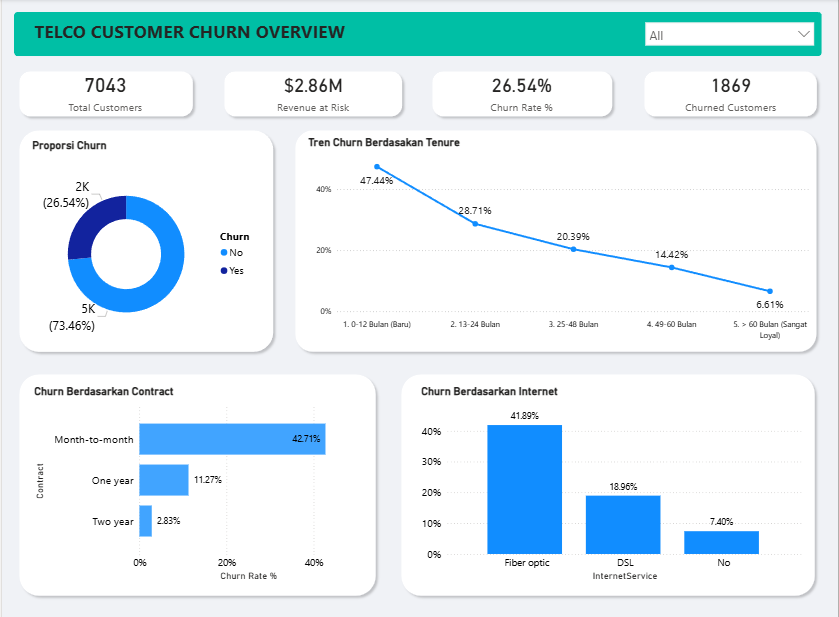

What the dashboard file says about the page in this screenshot:
{"tool":"powerbi","page":{"name":"Overview","canvas":[1280,1000],"ordinal":0},"visuals":[{"type":"shape","box":[17.7,102.7,281.9,85.2],"z":0},{"type":"shape","box":[332.4,102.7,288.5,85.2],"z":1000},{"type":"shape","box":[650.3,102.7,291.7,85.2],"z":2000},{"type":"shape","box":[974.8,102.7,280.3,85.2],"z":3000},{"type":"shape","box":[17.9,192.6,405,355.4],"z":4000},{"type":"card","fields":{"Values":["telco_cleaned.Total Customers"]},"box":[57,94.6,203.2,91.8],"z":5000},{"type":"shape","box":[17.9,19.9,1236.8,67.5],"z":6000},{"type":"card","fields":{"Values":["telco_cleaned.Churn Rate %"]},"box":[707.7,102.7,177,75.4],"z":7000},{"type":"card","fields":{"Values":["telco_cleaned.Revenue at Risk"]},"box":[389.7,102.7,172.1,75.4],"z":8000},{"type":"slicer","fields":{"Values":["telco_cleaned.Contract"]},"box":[974.8,25.8,277.9,53.6],"z":9000},{"type":"card","fields":{"Values":["telco_cleaned.Churned Customers"]},"box":[1027.3,102.7,177,75.4],"z":10000},{"type":"donutChart","title":"Proporsi Churn","fields":{"Category":["telco_cleaned.Churn"],"Y":["telco_cleaned.Total Customers"]},"box":[41.7,214.4,363.3,333.5],"z":11000},{"type":"shape","box":[440.7,192.6,814,355.4],"z":12000},{"type":"lineChart","title":"Tren Churn Berdasakan Tenure","fields":{"Category":["telco_cleaned.TenureGroup"],"Y":["telco_cleaned.Churn Rate %"]},"box":[464.6,210.4,788.2,319.6],"z":13000},{"type":"shape","box":[17.9,565.8,561.8,355.4],"z":14000},{"type":"clusteredBarChart","title":"Churn Berdasarkan Contract","fields":{"Category":["telco_cleaned.Contract"],"Y":["telco_cleaned.Churn Rate %"]},"box":[43.7,591.6,520.1,305.7],"z":15000},{"type":"shape","box":[603.5,565.8,649.2,355.4],"z":16000},{"type":"clusteredColumnChart","title":"Churn Berdasarkan Internet","fields":{"Category":["telco_cleaned.InternetService"],"Y":["telco_cleaned.Churn Rate %"]},"box":[637.3,591.6,593.6,305.7],"z":17000},{"type":"textbox","box":[43.7,25.8,536,53.6],"z":18000}]}

Visuals, with their boxes on the page's 1280x1000 design canvas (x1, y1, x2, y2). These are canvas units, not pixel positions in the 839x617 screenshot, which may show the page scaled, cropped or inside an application window:
shape: BBox(18, 103, 300, 188)
shape: BBox(332, 103, 621, 188)
shape: BBox(650, 103, 942, 188)
shape: BBox(975, 103, 1255, 188)
shape: BBox(18, 193, 423, 548)
card - telco_cleaned.Total Customers: BBox(57, 95, 260, 186)
shape: BBox(18, 20, 1255, 87)
card - telco_cleaned.Churn Rate %: BBox(708, 103, 885, 178)
card - telco_cleaned.Revenue at Risk: BBox(390, 103, 562, 178)
slicer - telco_cleaned.Contract: BBox(975, 26, 1253, 79)
card - telco_cleaned.Churned Customers: BBox(1027, 103, 1204, 178)
"Proporsi Churn" donutChart: BBox(42, 214, 405, 548)
shape: BBox(441, 193, 1255, 548)
"Tren Churn Berdasakan Tenure" lineChart: BBox(465, 210, 1253, 530)
shape: BBox(18, 566, 580, 921)
"Churn Berdasarkan Contract" clusteredBarChart: BBox(44, 592, 564, 897)
shape: BBox(604, 566, 1253, 921)
"Churn Berdasarkan Internet" clusteredColumnChart: BBox(637, 592, 1231, 897)
textbox: BBox(44, 26, 580, 79)
